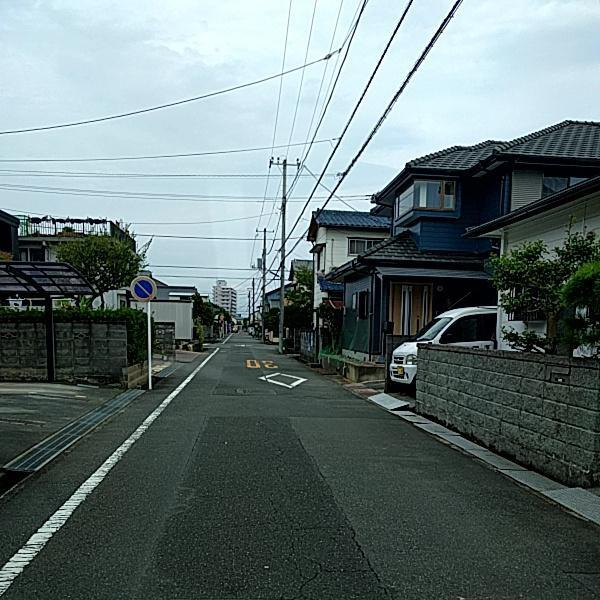D20: (262, 452, 368, 593)
D44: (0, 394, 177, 583)
